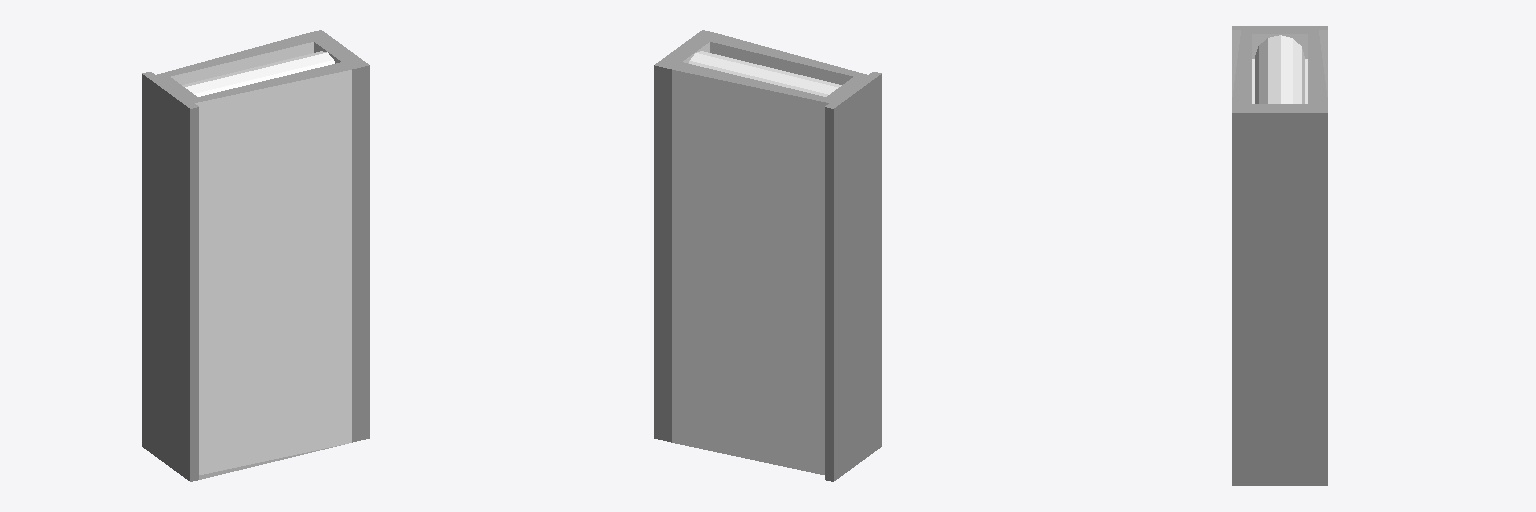
Rendered from Magazine_20Round.obj.
3 renders of one model, left to right at view 1: azimuth 30°, elevation 25°; view 2: azimuth 150°, elevation 25°; view 3: azimuth 270°, elevation 25°, orthographic.
Visible parts, largest first — view 1: Mesh1 Magazine_20_1 Model; view 2: Mesh1 Magazine_20_1 Model; view 3: Mesh1 Magazine_20_1 Model.
Part boxes in pixels (x1,y1,x2,y2): Mesh1 Magazine_20_1 Model: (142, 30, 369, 481); Mesh1 Magazine_20_1 Model: (654, 30, 881, 481); Mesh1 Magazine_20_1 Model: (1232, 26, 1327, 485).
Bounding box in the file's own units: 5.04 × 10.01 × 2.35.